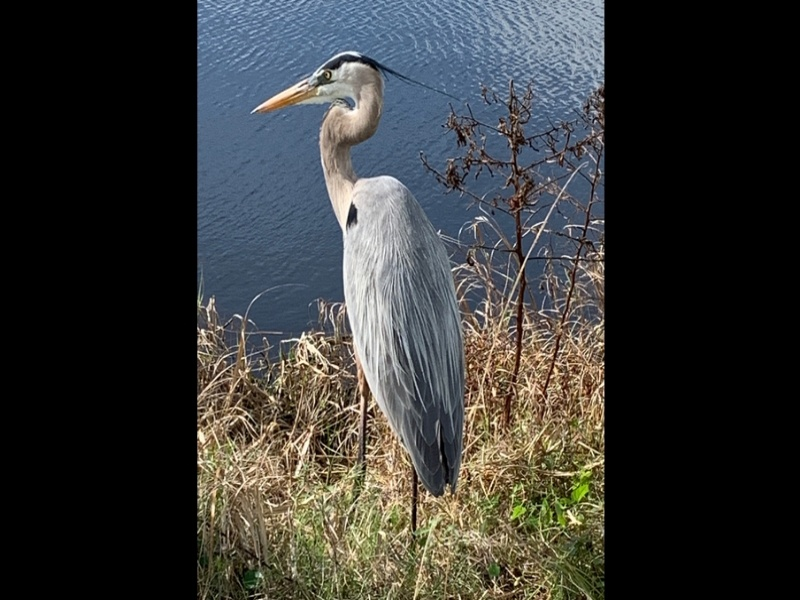heron: (247, 47, 469, 534)
